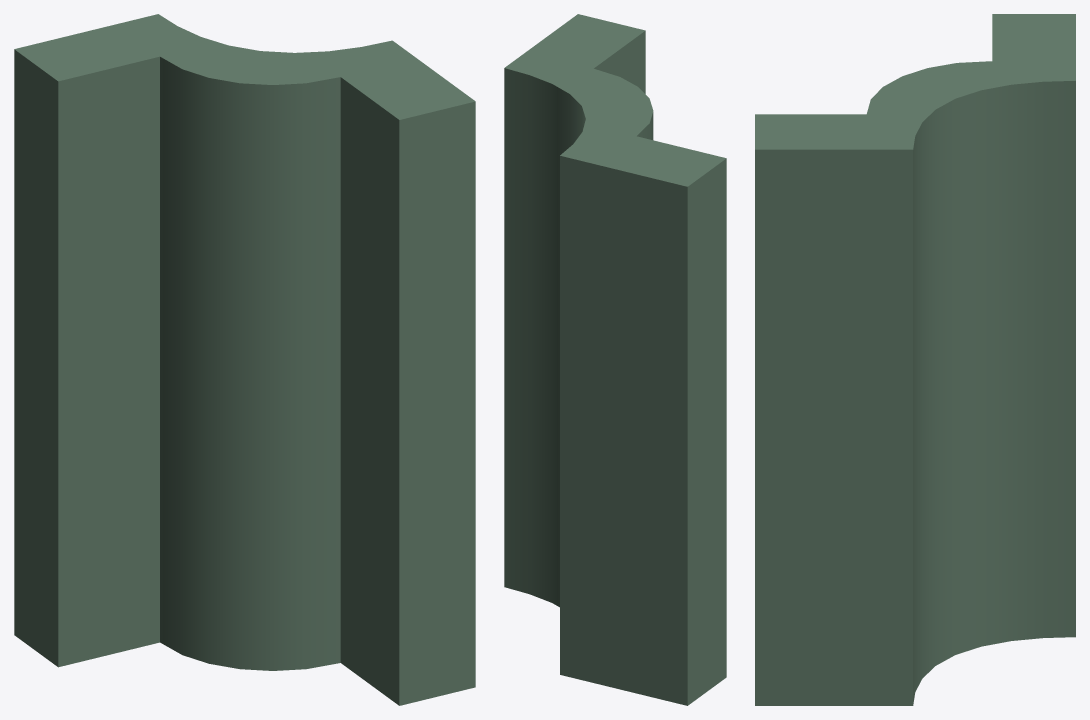
The model's file is W2_WallCorner_Round2A.fbx.
3 views of the same model, side by side, from view 1: azimuth 30°, elevation 25°; view 2: azimuth 150°, elevation 25°; view 3: azimuth 270°, elevation 25° (orthographic). The views are drawn at different scales.
Parts seen in each view (by area): view 1: W2_WallCorner_Round2A.001; view 2: W2_WallCorner_Round2A.001; view 3: W2_WallCorner_Round2A.001.
Part boxes in pixels (box(x1,y1,x2,y2)): W2_WallCorner_Round2A.001: box(14, 14, 475, 705); W2_WallCorner_Round2A.001: box(504, 14, 726, 705); W2_WallCorner_Round2A.001: box(755, 14, 1075, 705).
Size of the model in its own units: 1.15 by 2.2 by 1.15.
